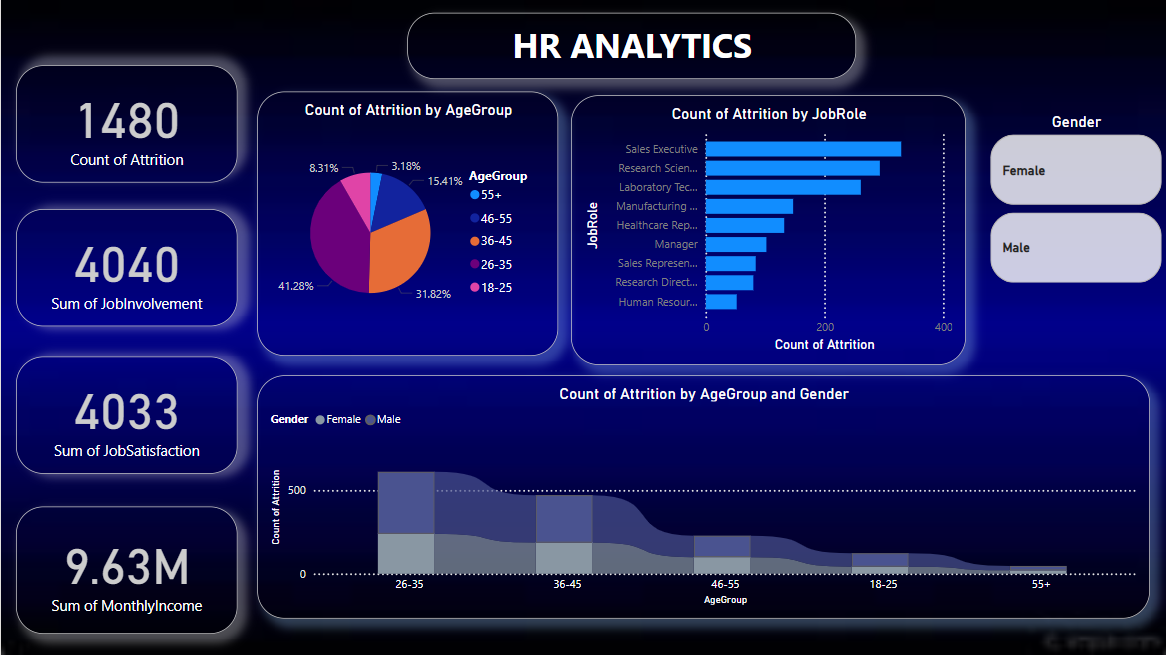

The dashboard page shown, as its layout file describes it:
{"tool":"powerbi","page":{"name":"Page 1","canvas":[1280,720],"ordinal":0},"visuals":[{"type":"textbox","title":"HR ANALYTICS","box":[378.7,17.8,492.6,72.7],"z":0},{"type":"card","fields":{"Values":["CountNonNull(HR_Analytics(1).Attrition)"]},"box":[16.5,72.7,242.9,129],"z":1000},{"type":"card","fields":{"Values":["Sum(HR_Analytics(1).JobInvolvement)"]},"box":[16.5,230.5,242.9,129],"z":2000},{"type":"card","fields":{"Values":["Sum(HR_Analytics(1).JobSatisfaction)"]},"box":[16.5,392.5,242.9,129],"z":3000},{"type":"card","fields":{"Values":["Sum(HR_Analytics(1).MonthlyIncome)"]},"box":[16.5,557.1,242.9,140],"z":4000},{"type":"ribbonChart","fields":{"Category":["HR_Analytics(1).AgeGroup"],"Y":["CountNonNull(HR_Analytics(1).Attrition)"],"Series":["HR_Analytics(1).Gender"]},"box":[775.4,409.1,478.9,287.9],"z":5000},{"type":"barChart","fields":{"Category":["HR_Analytics(1).JobRole"],"Y":["CountNonNull(HR_Analytics(1).Attrition)"]},"box":[280.8,409.1,467.5,287.9],"z":6000},{"type":"pieChart","fields":{"Category":["HR_Analytics(1).AgeGroup"],"Y":["CountNonNull(HR_Analytics(1).Attrition)"]},"box":[280.8,101.2,330.7,290.8],"z":7000},{"type":"slicer","fields":{"Values":["HR_Analytics(1).Gender","HR_Analytics(1).Education"]},"box":[611.5,115.5,260.8,306.5],"z":8000},{"type":"actionButton","box":[0,0,100,40],"z":9000}]}

Visuals, with their boxes in screenshot pixels (x1, y1, x2, y2), scaled from the page's 1280x720 canvas onto the 1166x655 screenshot:
"HR ANALYTICS" textbox: Rect(345, 16, 794, 82)
card - CountNonNull(HR_Analytics(1).Attrition): Rect(15, 66, 236, 183)
card - Sum(HR_Analytics(1).JobInvolvement): Rect(15, 210, 236, 327)
card - Sum(HR_Analytics(1).JobSatisfaction): Rect(15, 357, 236, 474)
card - Sum(HR_Analytics(1).MonthlyIncome): Rect(15, 507, 236, 634)
ribbonChart - HR_Analytics(1).AgeGroup x CountNonNull(HR_Analytics(1).Attrition): Rect(706, 372, 1143, 634)
barChart - HR_Analytics(1).JobRole x CountNonNull(HR_Analytics(1).Attrition): Rect(256, 372, 682, 634)
pieChart - HR_Analytics(1).AgeGroup x CountNonNull(HR_Analytics(1).Attrition): Rect(256, 92, 557, 357)
slicer - HR_Analytics(1).Gender x HR_Analytics(1).Education: Rect(557, 105, 795, 384)
actionButton: Rect(0, 0, 91, 36)
